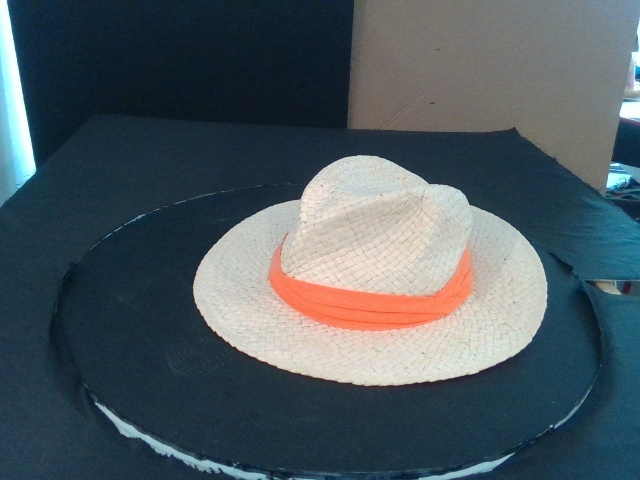hat: (189, 154, 549, 387)
